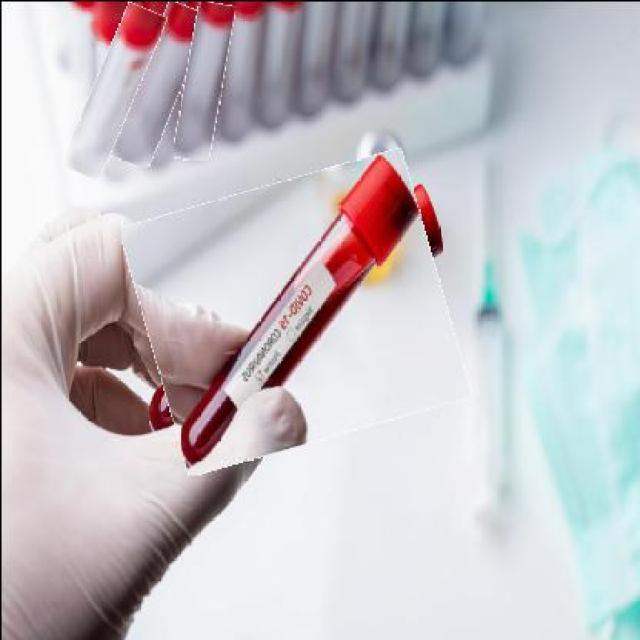Experimental-tube: (133, 165, 456, 457), (76, 1, 150, 179), (118, 1, 194, 168), (174, 2, 228, 160)
